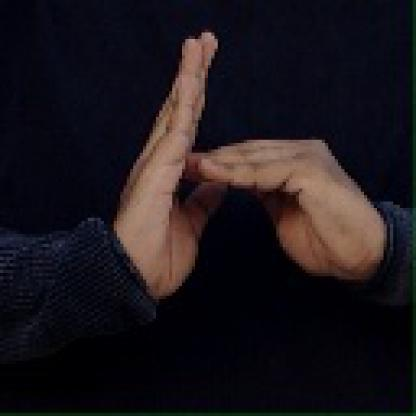Z: (118, 32, 360, 295)
